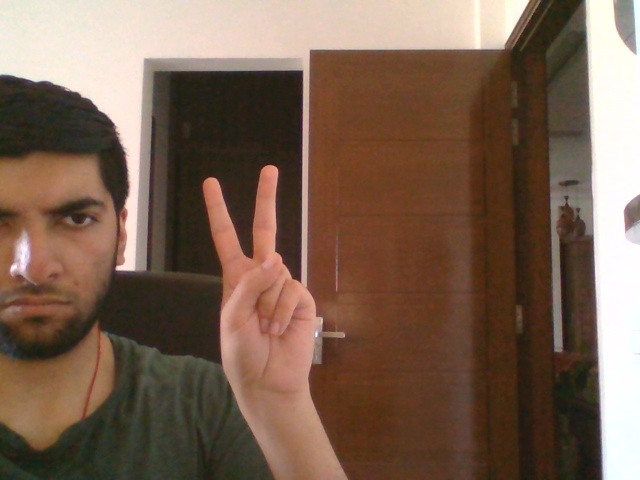LetterK: (200, 164, 316, 393)
